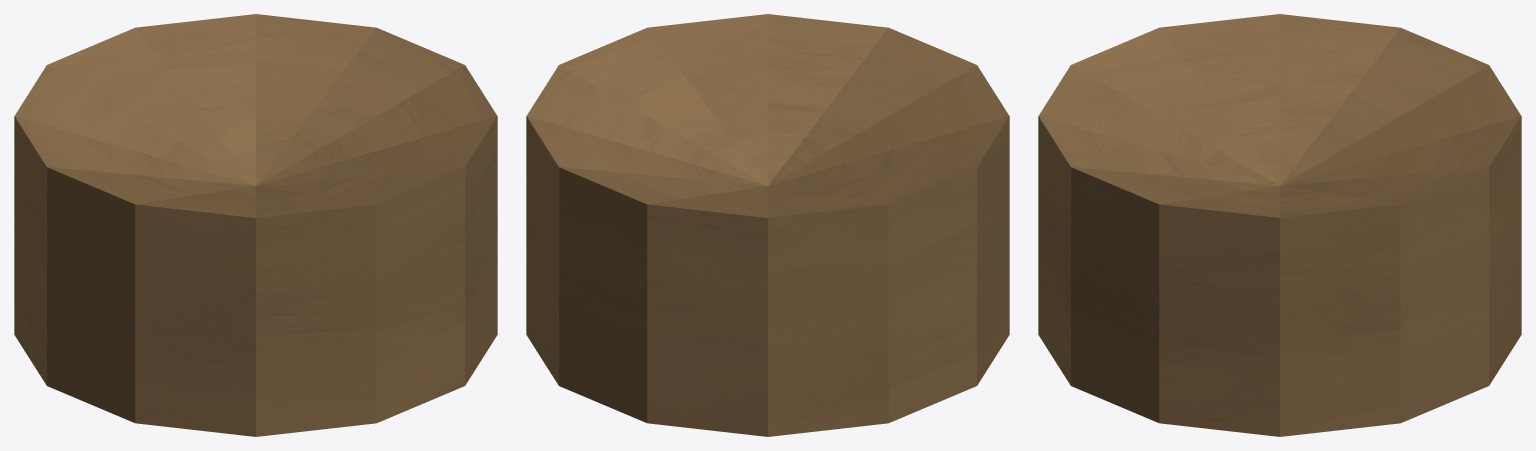
The model's file is Bowl.glb.
3 views of the same model, side by side, from view 1: azimuth 30°, elevation 25°; view 2: azimuth 150°, elevation 25°; view 3: azimuth 270°, elevation 25° (orthographic).
Parts seen in each view (by area): view 1: Bowl; view 2: Bowl; view 3: Bowl.
Part boxes in pixels (bbox=[...]): Bowl: bbox=[14, 14, 497, 436]; Bowl: bbox=[526, 14, 1009, 436]; Bowl: bbox=[1038, 14, 1521, 436].
Bounding box in the file's own units: 20 × 10 × 20.
Materials: 1 (1 with a texture image).
